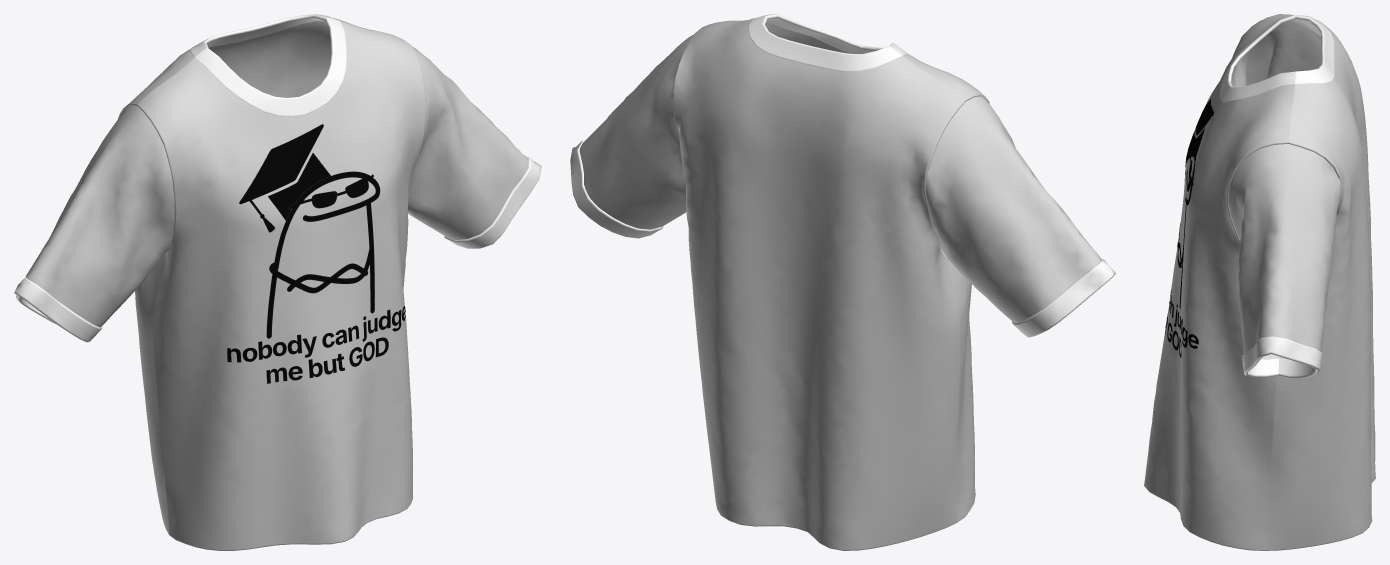
Rendered from judgeMe.glb.
The picture shows the model from 3 angles, left to right: view 1: azimuth 30°, elevation 25°; view 2: azimuth 150°, elevation 25°; view 3: azimuth 270°, elevation 25°; orthographic projection. The views are drawn at different scales.
Parts seen in each view (by area): view 1: judge me; view 2: judge me; view 3: judge me.
Boxes of the visible parts, x1,y1,x2,y2 form: judge me: (14, 14, 541, 550); judge me: (570, 14, 1115, 550); judge me: (1144, 14, 1375, 550).
Bounding box in the file's own units: 0.8474 × 0.7174 × 0.3294.
Materials: 3 (1 with a texture image).
